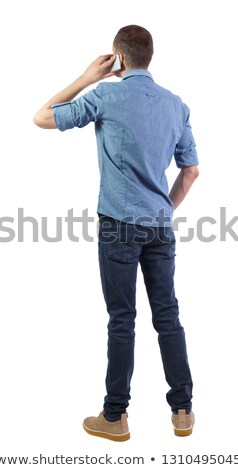phone: (95, 56, 125, 76)
